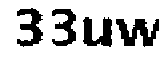3: (10, 5, 46, 50), (48, 5, 77, 52)
u: (81, 13, 112, 49)
w: (114, 14, 160, 53)
